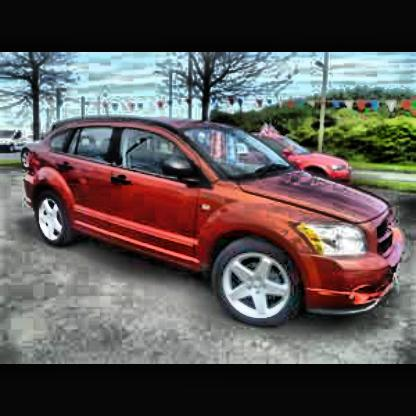Dodge Caliber Wagon 2007: (24, 113, 402, 332)
